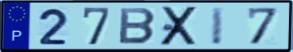2: (35, 5, 73, 47)
7: (246, 6, 281, 46), (81, 6, 111, 46)
B: (117, 7, 158, 46)
I: (210, 5, 227, 46)
X: (158, 5, 201, 48)
